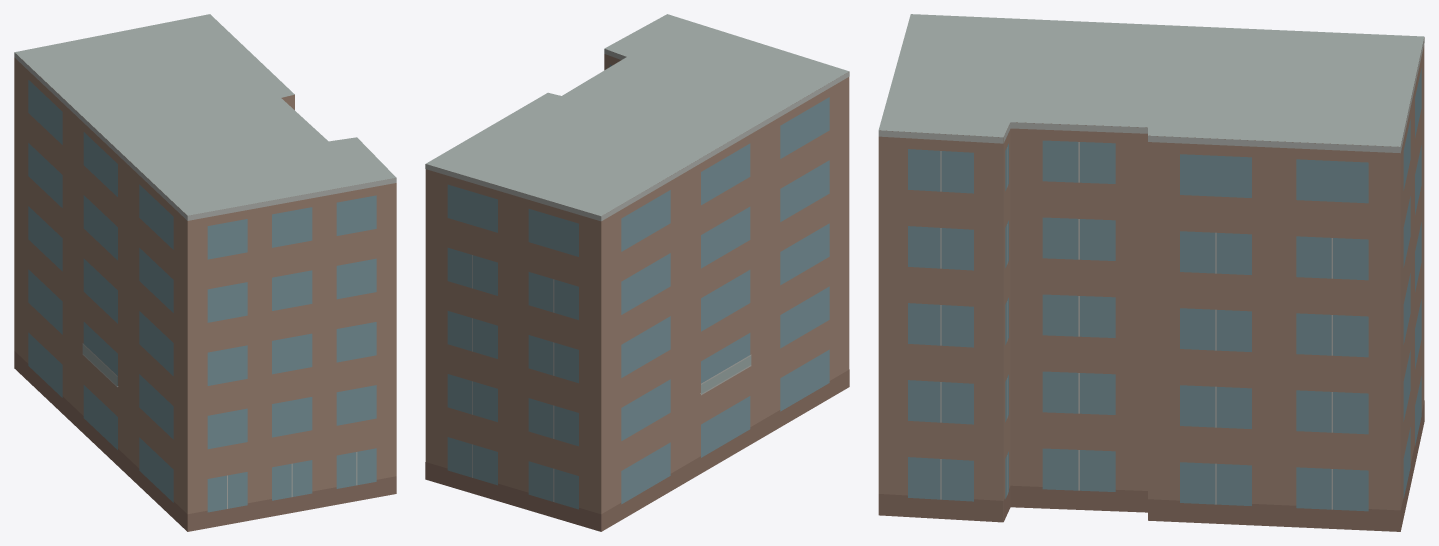
The model's file is survey-upis-32567217.glb.
3 renders of one model, left to right at view 1: azimuth 30°, elevation 25°; view 2: azimuth 150°, elevation 25°; view 3: azimuth 270°, elevation 25°, orthographic. The views are drawn at different scales.
Visible parts, largest first — view 1: survey-upis-32567217.tmp; view 2: survey-upis-32567217.tmp; view 3: survey-upis-32567217.tmp.
Boxes of the visible parts, bbox=[...] form: survey-upis-32567217.tmp: bbox=[14, 14, 396, 531]; survey-upis-32567217.tmp: bbox=[425, 14, 849, 531]; survey-upis-32567217.tmp: bbox=[878, 14, 1424, 531].
Size of the model in its own units: 11.04 by 14.9 by 19.16.
